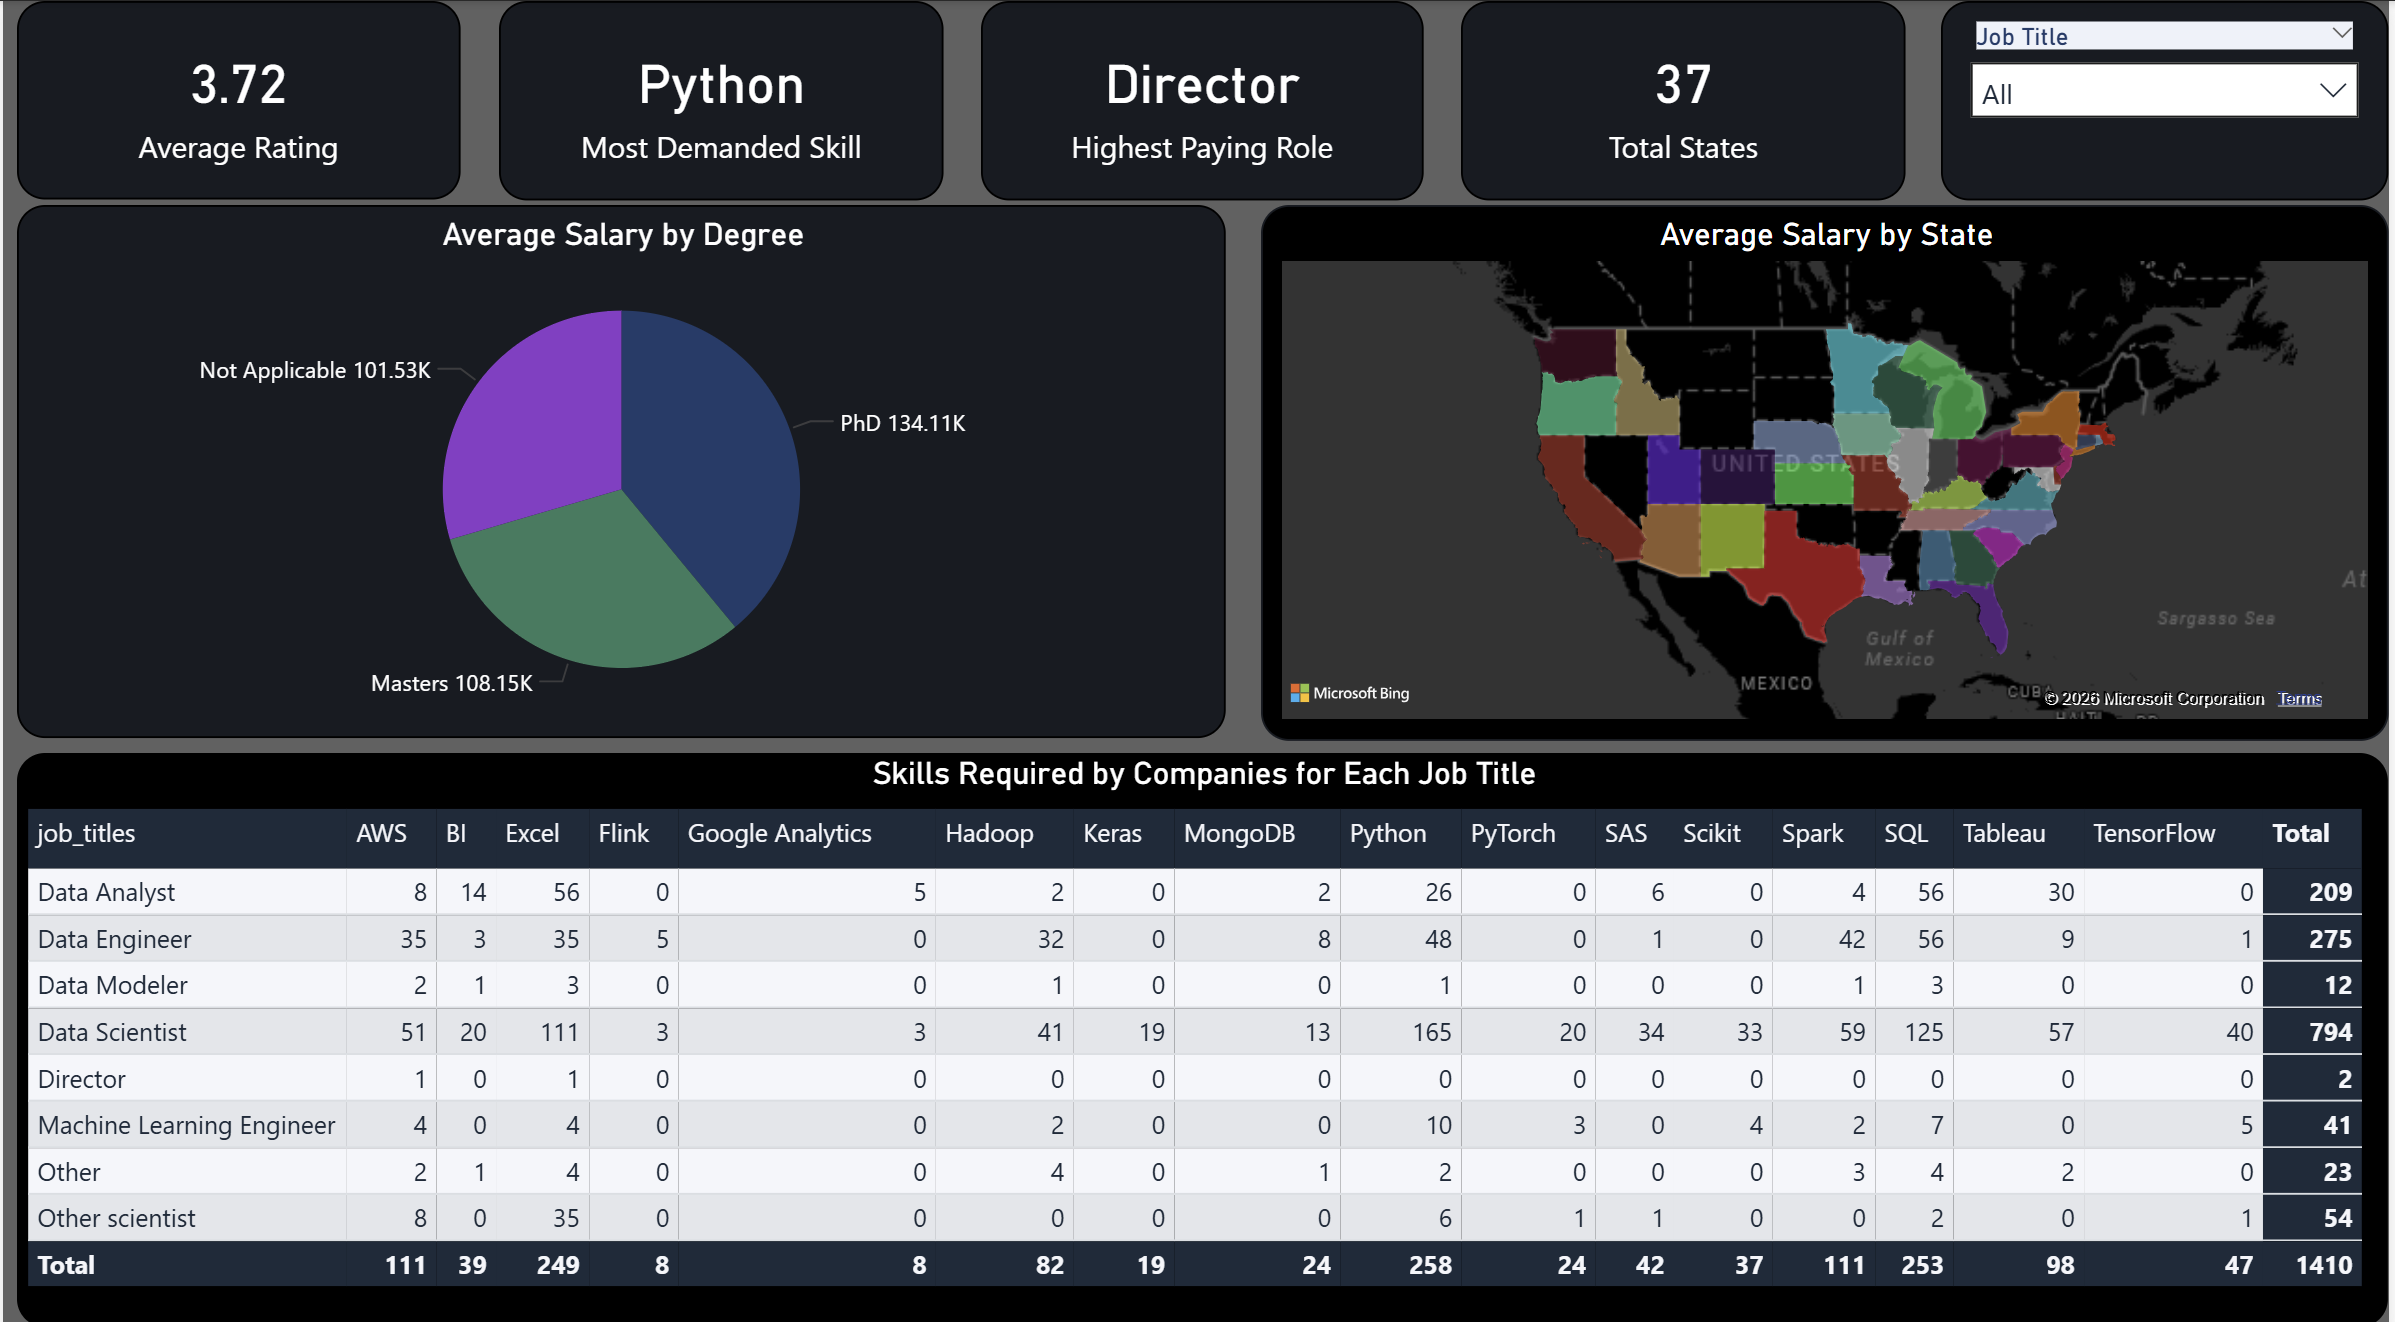

Layout of this report page (visuals, bound fields, positions):
{"tool":"powerbi","page":{"name":"Page 2","canvas":[1280,720],"ordinal":1},"visuals":[{"type":"slicer","fields":{"Values":["Jobs_raw.job_title_sim"]},"box":[1040.1,0,239.9,106.8],"z":0},{"type":"pieChart","title":"Average Salary by Degree","fields":{"Y":["Jobs_raw.Avg Salary by Education"],"Category":["Jobs_raw.degree"]},"box":[7.9,109.4,648.6,286.1],"z":1000},{"type":"pivotTable","title":"Skills Required by Companies for Each Job Title","fields":{"Rows":["Skills_Detail_Table.job_titles"],"Columns":["Skills_Detail_Table.Skill"],"Values":["Skills_Detail_Table.Skill Job Count"]},"box":[7.8,403.3,1272.2,307.8],"z":2000},{"type":"filledMap","title":" Average Salary by State","fields":{"Category":["StateMapping.State"]},"box":[674.9,109.4,605.1,287.4],"z":3000},{"type":"card","fields":{"Values":["Jobs_raw.Avg_rating"]},"box":[7.8,0,237.8,106.7],"z":3001},{"type":"card","fields":{"Values":["Skills_Detail_Table.Most Demanded Skill"]},"box":[265.9,0,238.6,106.8],"z":3002},{"type":"card","fields":{"Values":["Skills_Detail_Table.Highest Paying Role"]},"box":[524.8,0,237.3,106.8],"z":3003},{"type":"card","fields":{"Values":["Skills_Detail_Table.Total States"]},"box":[782.5,0,238.6,106.8],"z":3004}]}

Visuals, with their boxes in screenshot pixels (x1, y1, x2, y2), scaled from the page's 1280x720 canvas onto the 2395x1322 screenshot:
slicer - Jobs_raw.job_title_sim: locate(1946, 0, 2394, 196)
"Average Salary by Degree" pieChart: locate(15, 201, 1228, 726)
"Skills Required by Companies for Each Job Title" pivotTable: locate(15, 741, 2394, 1306)
" Average Salary by State" filledMap: locate(1263, 201, 2394, 729)
card - Jobs_raw.Avg_rating: locate(15, 0, 460, 196)
card - Skills_Detail_Table.Most Demanded Skill: locate(498, 0, 944, 196)
card - Skills_Detail_Table.Highest Paying Role: locate(982, 0, 1426, 196)
card - Skills_Detail_Table.Total States: locate(1464, 0, 1911, 196)
